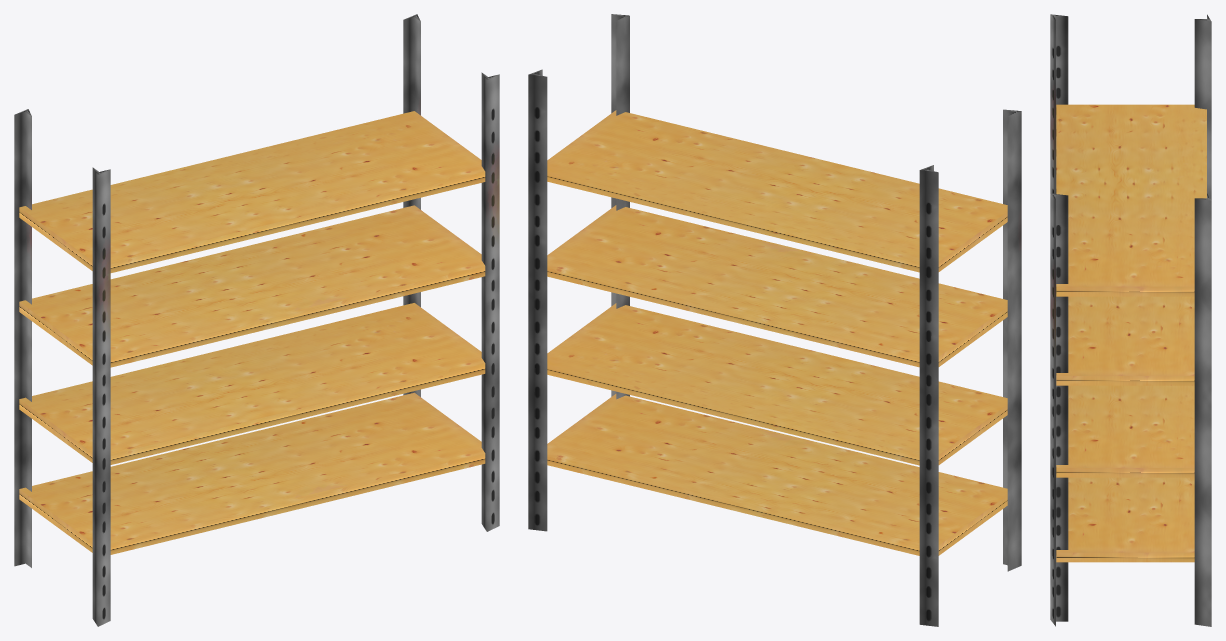
Rendered from Wooden_Shelf.fbx.
3 views of the same model, side by side, from view 1: azimuth 30°, elevation 25°; view 2: azimuth 150°, elevation 25°; view 3: azimuth 270°, elevation 25° (orthographic). The views are drawn at different scales.
Parts seen in each view (by area): view 1: Wood1, Wood3, Wood2, Wood, Metal2, Metal, Metal3, Metal1; view 2: Wood3, Wood2, Wood, Wood1, Metal1, Metal3, Metal2, Metal; view 3: Wood, Wood2, Wood1, Wood3, Metal1, Metal, Metal2, Metal3.
Part boxes in pixels (x1=…): Wood1: x1=19, y1=205, x2=485, y2=367; Wood3: x1=19, y1=392, x2=485, y2=554; Wood2: x1=19, y1=303, x2=485, y2=464; Wood: x1=19, y1=111, x2=485, y2=272; Metal2: x1=92, y1=167, x2=110, y2=626; Metal: x1=481, y1=72, x2=499, y2=531; Metal3: x1=14, y1=109, x2=31, y2=567; Metal1: x1=403, y1=14, x2=420, y2=396; Wood3: x1=547, y1=394, x2=1007, y2=555; Wood2: x1=547, y1=303, x2=1007, y2=465; Wood: x1=547, y1=110, x2=1007, y2=272; Wood1: x1=547, y1=205, x2=1007, y2=367; Metal1: x1=528, y1=69, x2=547, y2=531; Metal3: x1=919, y1=165, x2=938, y2=626; Metal2: x1=1003, y1=109, x2=1021, y2=571; Metal: x1=611, y1=14, x2=629, y2=399; Wood: x1=1056, y1=104, x2=1206, y2=296; Wood2: x1=1056, y1=385, x2=1194, y2=477; Wood1: x1=1056, y1=296, x2=1194, y2=385; Wood3: x1=1056, y1=477, x2=1194, y2=562; Metal1: x1=1194, y1=193, x2=1211, y2=626; Metal: x1=1050, y1=193, x2=1068, y2=626; Metal2: x1=1050, y1=14, x2=1068, y2=193; Metal3: x1=1194, y1=14, x2=1211, y2=199.
Bounding box in the file's own units: 205 × 218 × 74.87.
